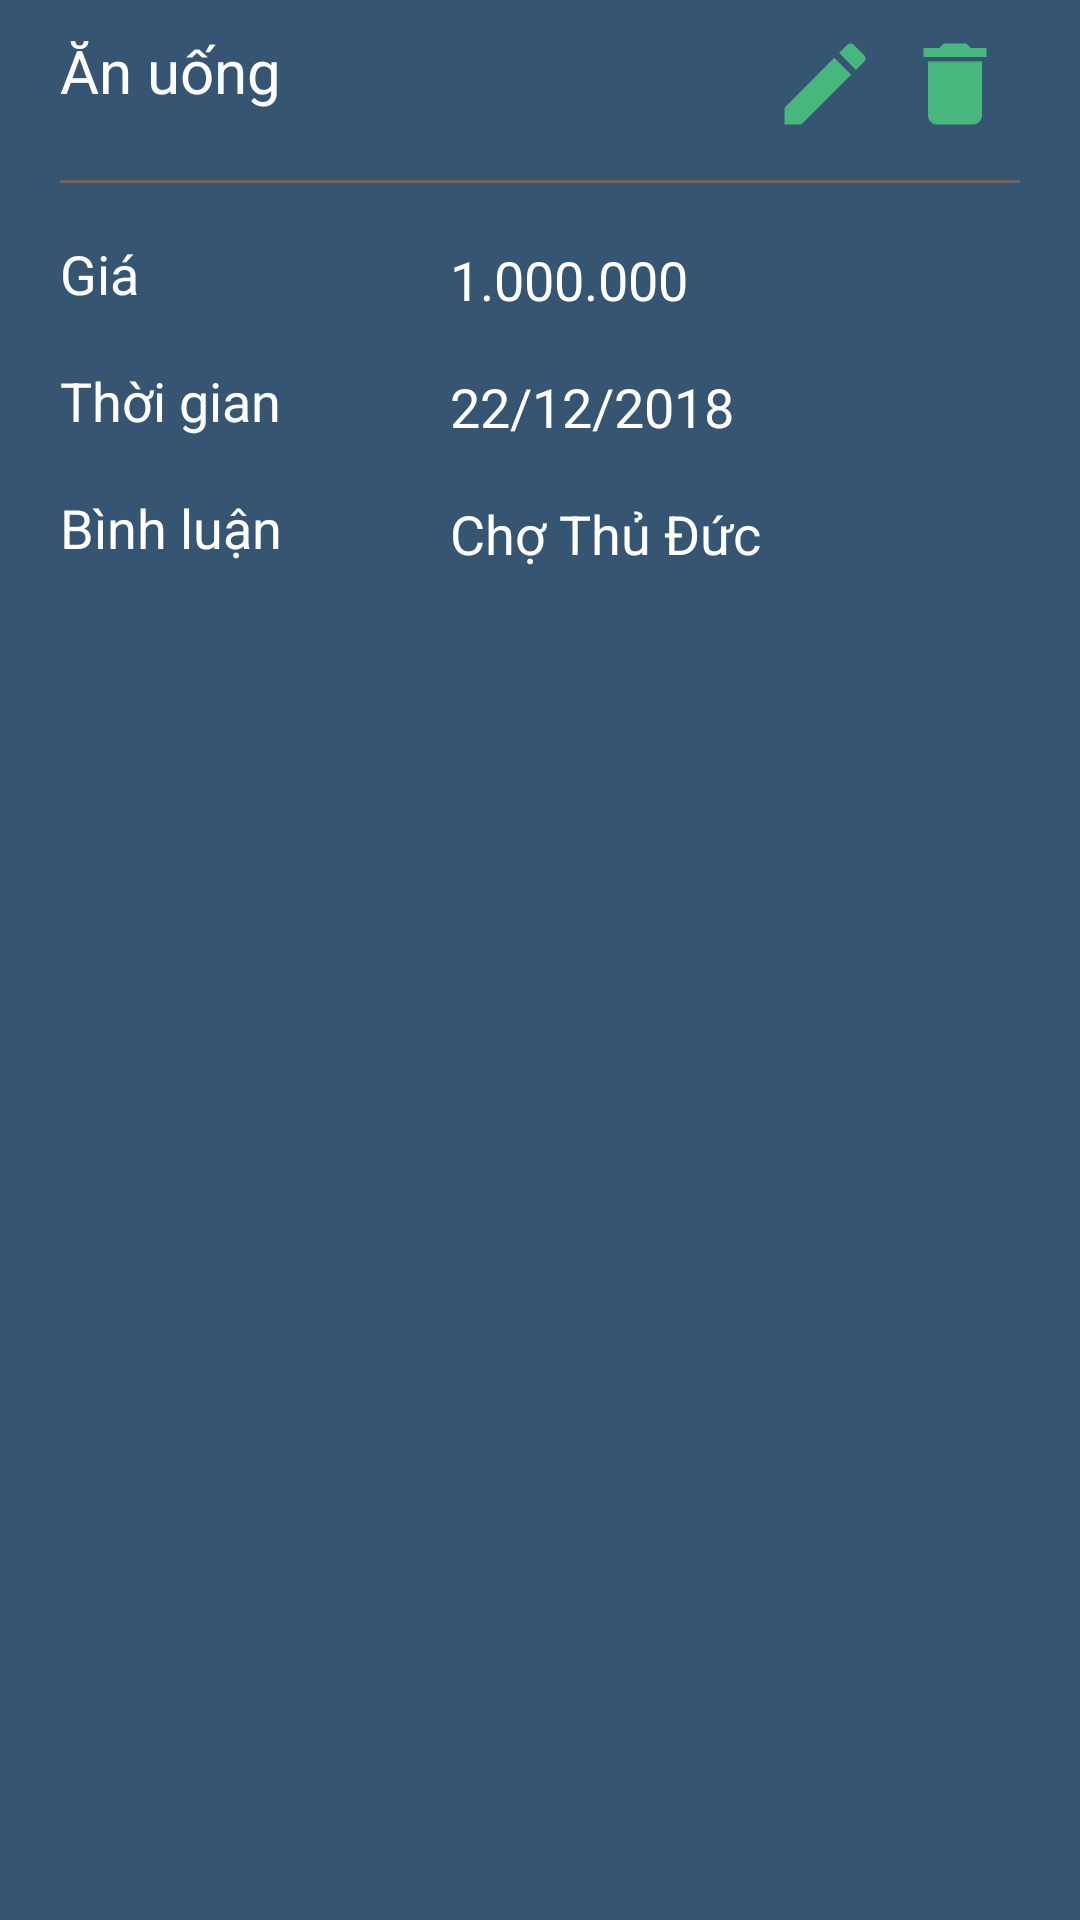

Where to tap for icons on this 1080×1920 app screen, as (x,y):
delete: (955,84)
edit: (825,84)
